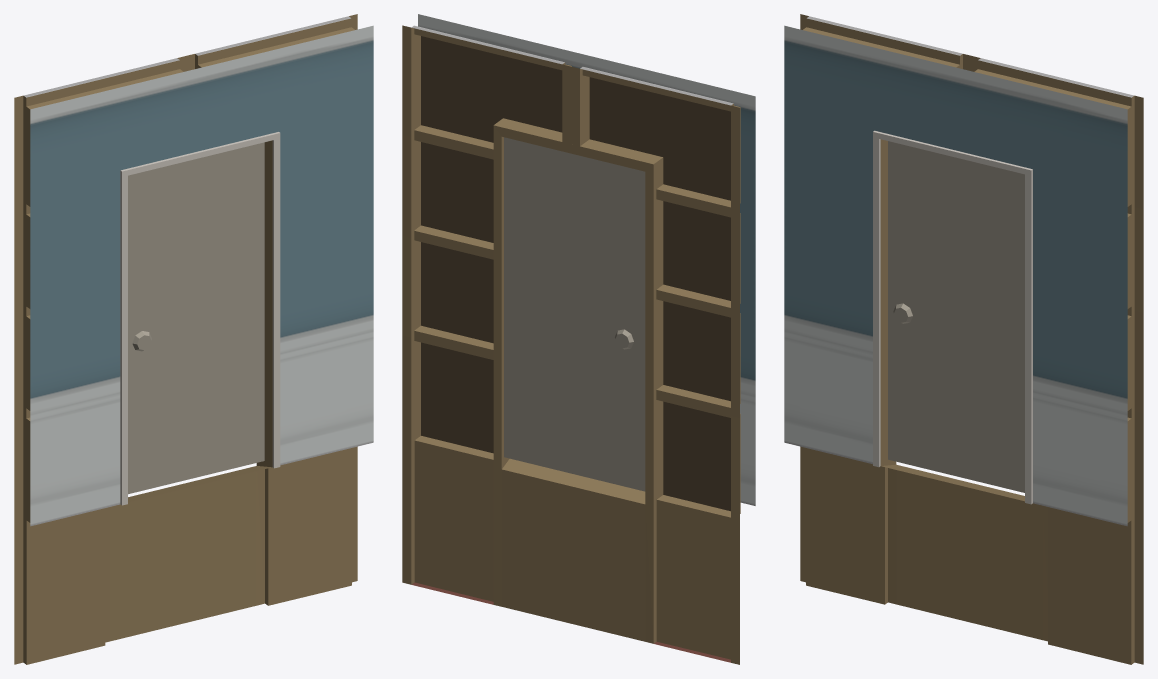
Rendered from SM_Bld_House_InternalWall_Garage_Door_01.fbx.
3 views of the same model, side by side, from view 1: azimuth 30°, elevation 25°; view 2: azimuth 150°, elevation 25°; view 3: azimuth 330°, elevation 25° (orthographic).
Parts seen in each view (by area): view 1: SM_Bld_House_InternalWall_Garage_Door_01, SM_Bld_House_InternalWall_Garage_Door_02; view 2: SM_Bld_House_InternalWall_Garage_Door_01, SM_Bld_House_InternalWall_Garage_Door_02; view 3: SM_Bld_House_InternalWall_Garage_Door_01, SM_Bld_House_InternalWall_Garage_Door_02.
Boxes of the visible parts, x1=… form: SM_Bld_House_InternalWall_Garage_Door_01: x1=14, y1=14, x2=373, y2=664; SM_Bld_House_InternalWall_Garage_Door_02: x1=128, y1=142, x2=264, y2=494; SM_Bld_House_InternalWall_Garage_Door_01: x1=402, y1=14, x2=755, y2=664; SM_Bld_House_InternalWall_Garage_Door_02: x1=504, y1=137, x2=645, y2=491; SM_Bld_House_InternalWall_Garage_Door_01: x1=784, y1=14, x2=1143, y2=664; SM_Bld_House_InternalWall_Garage_Door_02: x1=888, y1=141, x2=1024, y2=492.
Bounding box in the file's own units: 250 × 394 × 27.35.
